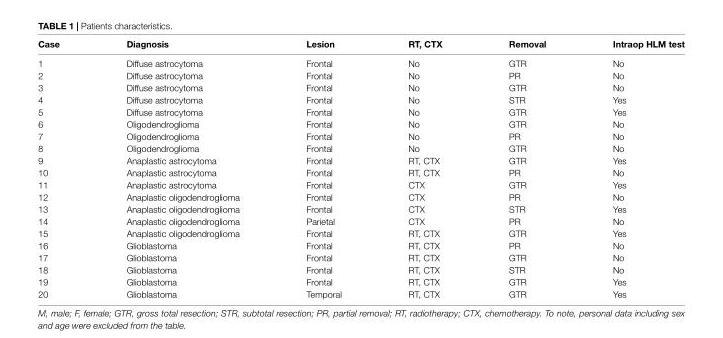table: (37, 37, 683, 298)
table column: (92, 37, 272, 298), (578, 37, 683, 298), (474, 37, 578, 298), (272, 37, 374, 298), (374, 37, 474, 298), (37, 37, 92, 298)
table column header: (37, 37, 683, 52)
table row: (37, 52, 683, 68), (37, 37, 683, 52), (37, 80, 683, 93), (37, 165, 683, 178), (37, 250, 683, 263), (37, 68, 683, 80), (37, 93, 683, 105), (37, 105, 683, 117), (37, 117, 683, 129), (37, 129, 683, 141), (37, 141, 683, 153), (37, 153, 683, 165), (37, 178, 683, 190), (37, 190, 683, 202), (37, 202, 683, 214), (37, 214, 683, 226), (37, 226, 683, 238), (37, 238, 683, 250), (37, 263, 683, 275), (37, 275, 683, 287), (37, 287, 683, 298)
